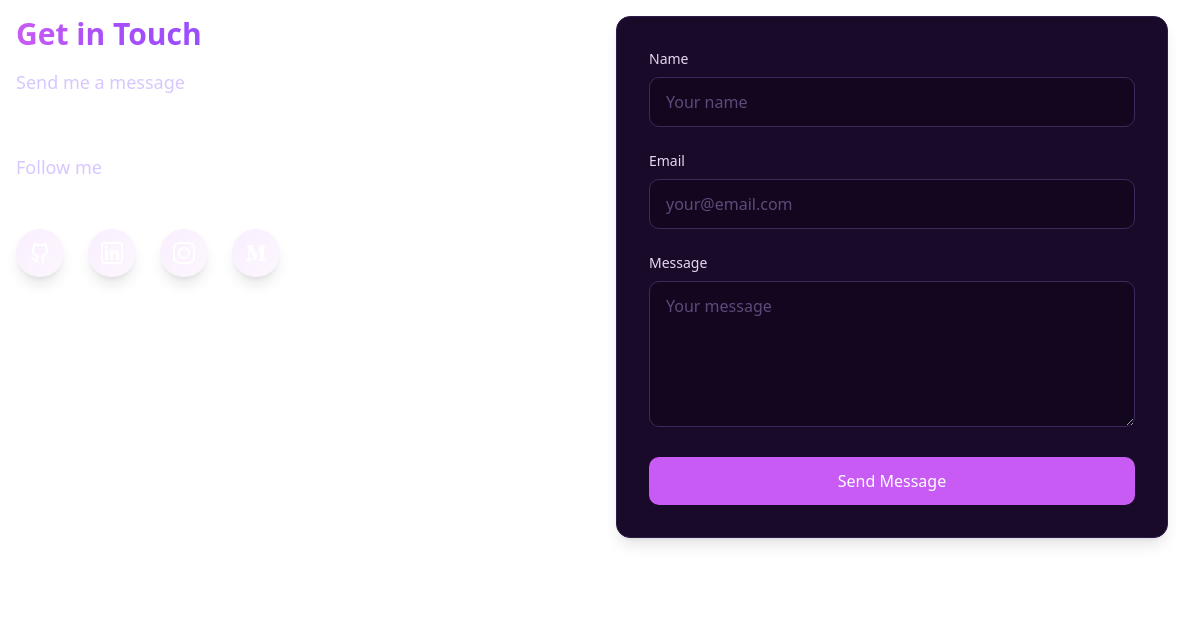
Test: ContactForm › form validation › shows error for invalid email
Type "John Doe" into the field labelled "Name" at (892, 102), box [649,77,1135,127]
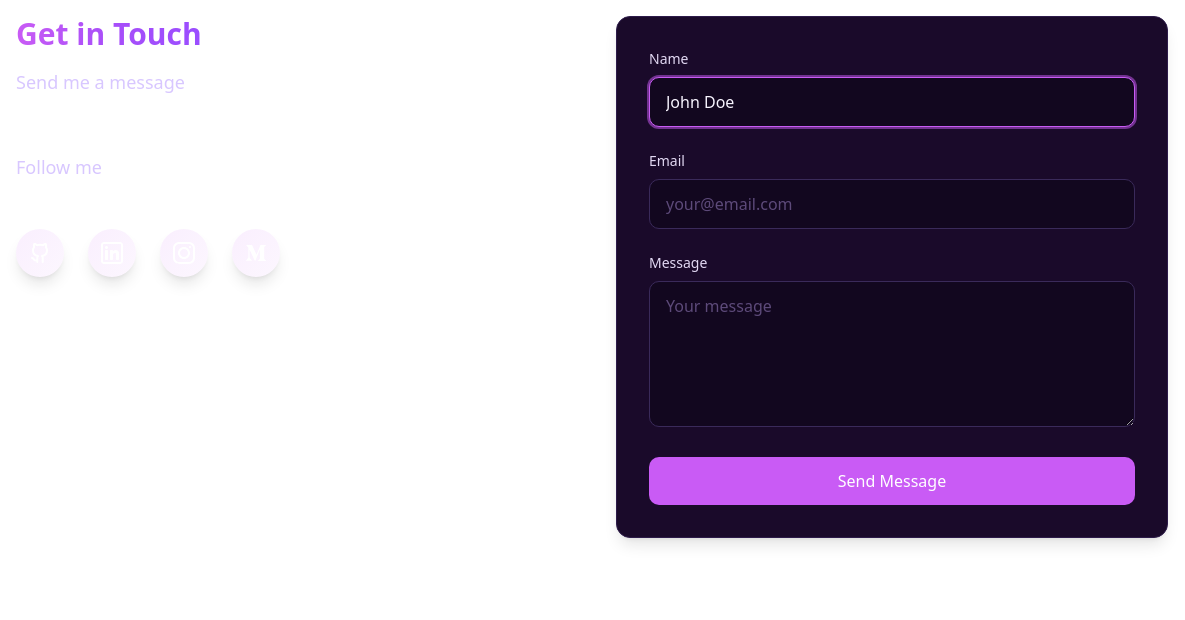
Type "a@b" into the field labelled "Email" at (892, 204), box [649,179,1135,229]
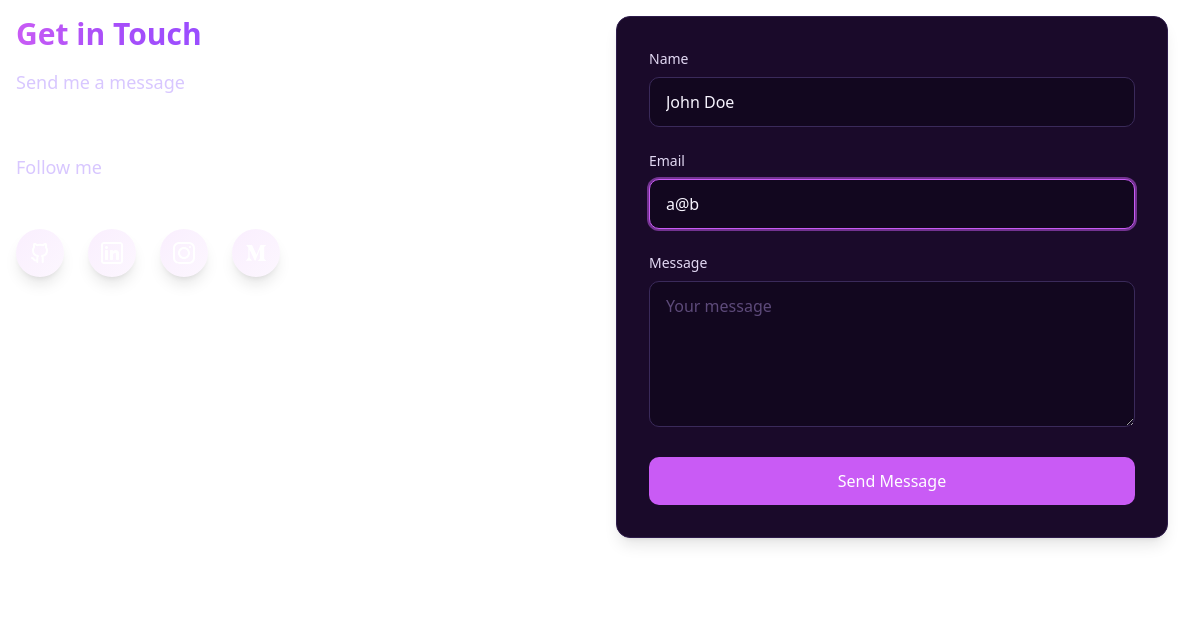
Click the button "Send Message" at (892, 481), box [649,457,1135,505]
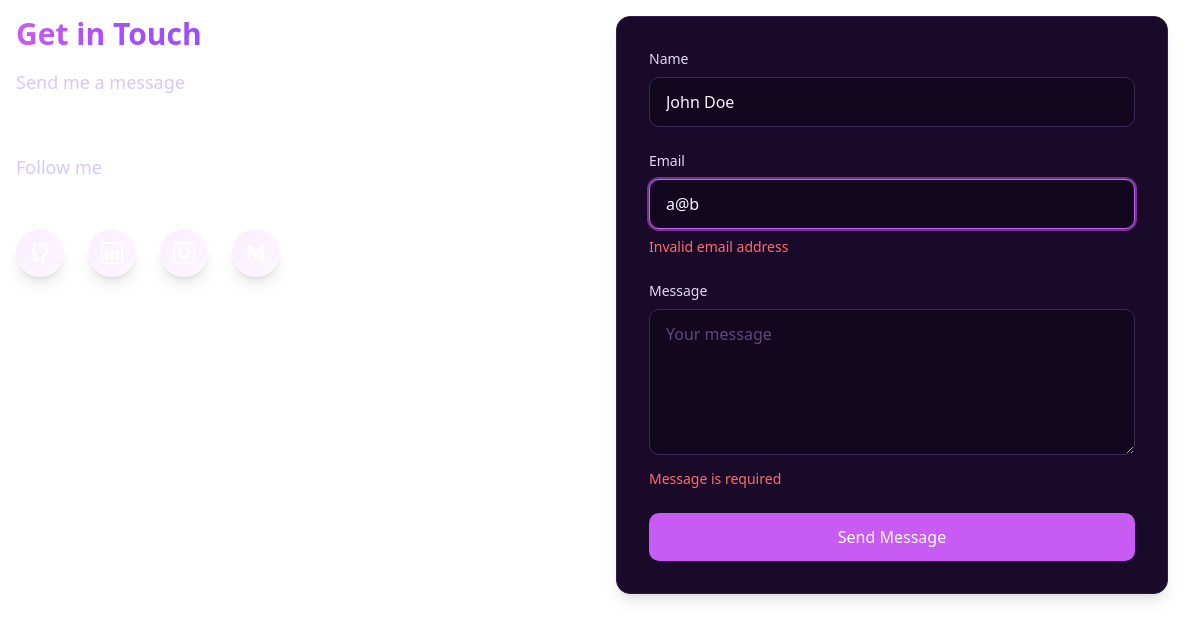
expect the text "Invalid email address" is shown: met, box [649,237,788,256]
